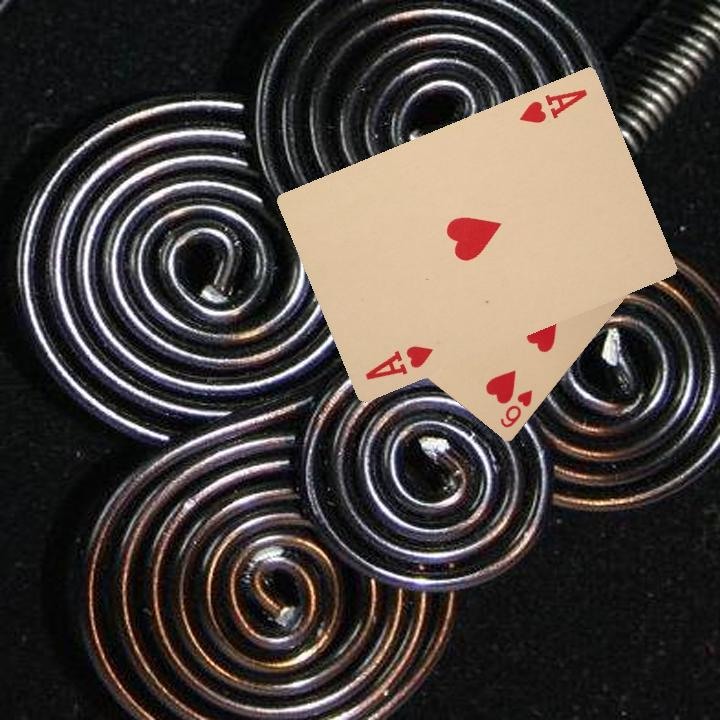6h: (496, 386, 535, 430)
Ah: (361, 341, 436, 383), (515, 85, 590, 126)
